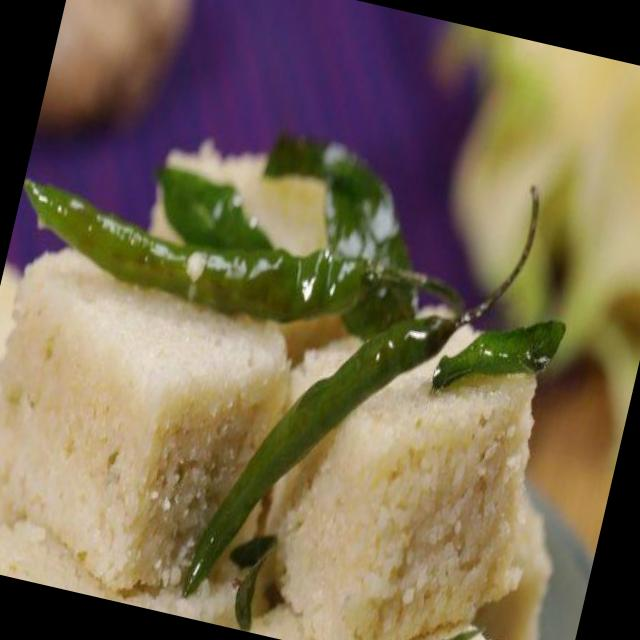dhokla: (0, 100, 635, 640)
